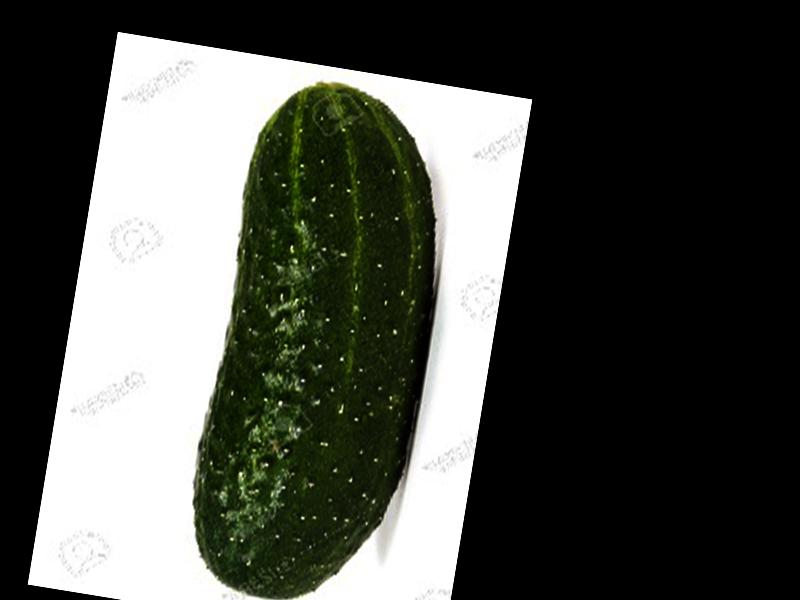Cucumber: (181, 71, 466, 600)
